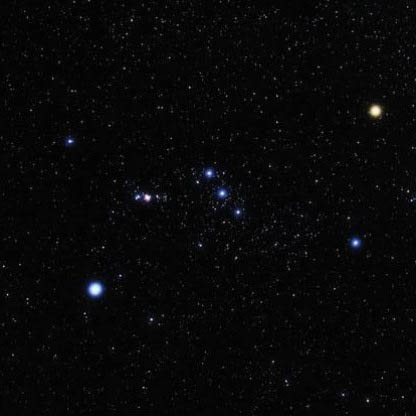Orion: (83, 271, 105, 307), (208, 183, 239, 206), (367, 98, 388, 129), (198, 160, 222, 183), (59, 133, 84, 152), (346, 230, 363, 254), (233, 206, 256, 220)
